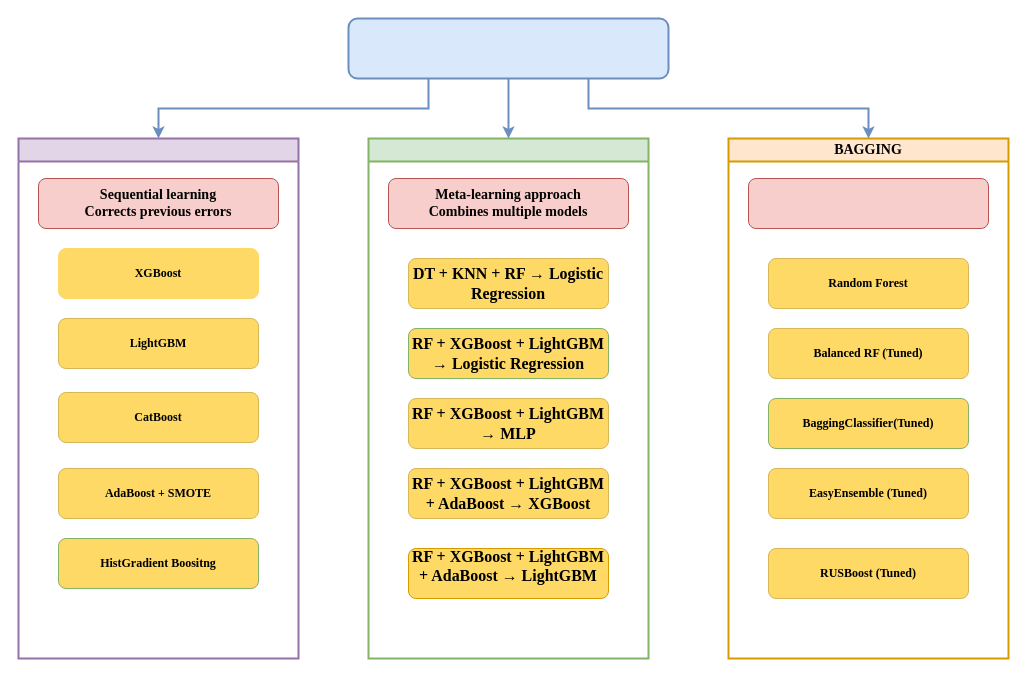
This 1026x676 diagram has some shape labels left out. Here are the shapes that lost their labels. From the top down, the box of each, then its label:
(347, 17, 669, 79): Ensemble Learning Techniques
(748, 178, 988, 228): Parallel learning Bootstrap aggregating
(17, 137, 299, 659): BOOSTING
(367, 137, 649, 659): STACKING
